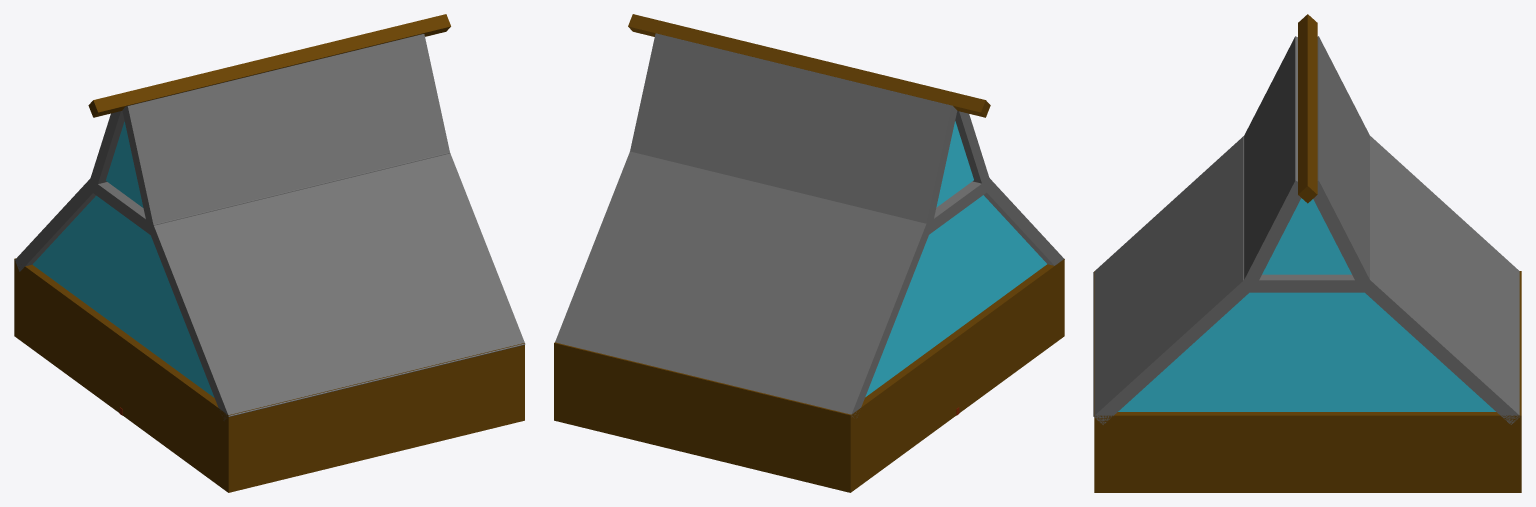
File: home.fbx
3 renders of one model, left to right at view 1: azimuth 30°, elevation 25°; view 2: azimuth 150°, elevation 25°; view 3: azimuth 270°, elevation 25°, orthographic.
Visible parts, largest first — view 1: Cube.001, Cube, Cube.004, Cube.007, Cube.006, Cube.002, Cube.003, Cube.008, Cube.005; view 2: Cube.002, Cube, Cube.005, Cube.007, Cube.006, Cube.001, Cube.008, Cube.003, Cube.004; view 3: Cube, Cube.007, Cube.001, Cube.002, Cube.004, Cube.005, Cube.008, Cube.006, Cube.003.
Boxes of the visible parts, box(x1,y1,x2,y2) form: Cube.001: box(148, 152, 525, 420); Cube: box(14, 258, 524, 492); Cube.004: box(122, 34, 449, 228); Cube.007: box(32, 195, 214, 397); Cube.006: box(88, 14, 450, 117); Cube.002: box(15, 178, 95, 271); Cube.003: box(93, 152, 450, 236); Cube.008: box(106, 121, 143, 207); Cube.005: box(90, 111, 124, 189); Cube.002: box(555, 151, 931, 417); Cube: box(554, 259, 1064, 492); Cube.005: box(630, 33, 957, 227); Cube.007: box(865, 195, 1046, 397); Cube.006: box(628, 14, 990, 117); Cube.001: box(984, 179, 1064, 265); Cube.008: box(936, 121, 973, 207); Cube.003: box(927, 178, 989, 234); Cube.004: box(955, 111, 989, 183); Cube: box(1094, 271, 1521, 492); Cube.007: box(1118, 292, 1495, 411); Cube.001: box(1093, 136, 1253, 424); Cube.002: box(1360, 136, 1519, 424); Cube.004: box(1244, 36, 1301, 287); Cube.005: box(1313, 36, 1369, 286); Cube.008: box(1262, 198, 1351, 274); Cube.006: box(1298, 14, 1317, 203); Cube.003: box(1243, 136, 1367, 292).
Bounding box in the file's own units: 11428 × 9942 × 12023.
